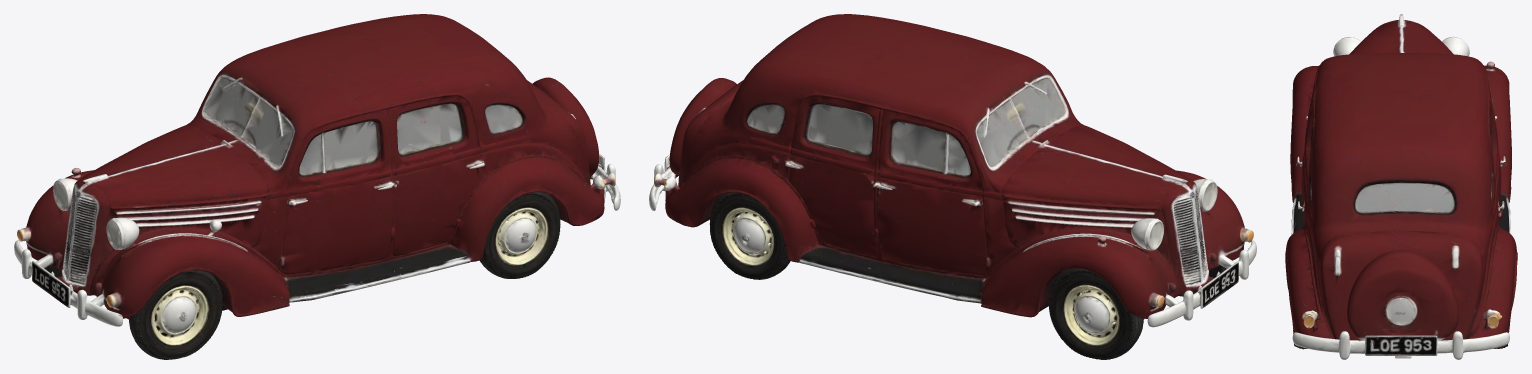
Rendered from v8-pilot-SHRINK.glb.
The picture shows the model from 3 angles, left to right: view 1: azimuth 30°, elevation 25°; view 2: azimuth 150°, elevation 25°; view 3: azimuth 270°, elevation 25°; orthographic projection. The views are drawn at different scales.
Visible parts, largest first — view 1: object 1, Wheel_FL, Wheel_RL; view 2: object 1, Wheel_FR, Wheel_RR; view 3: object 1.
Part boxes in pixels (x1,y1,x2,y2): object 1: [14, 14, 620, 326]; Wheel_FL: [129, 267, 233, 359]; Wheel_RL: [475, 192, 569, 278]; object 1: [649, 14, 1256, 327]; Wheel_FR: [1037, 267, 1143, 359]; Wheel_RR: [699, 191, 794, 279]; object 1: [1285, 14, 1517, 359].
Size of the model in its own units: 1.9 by 0.7205 by 0.7325.
Materials: 1 (1 with a texture image).
